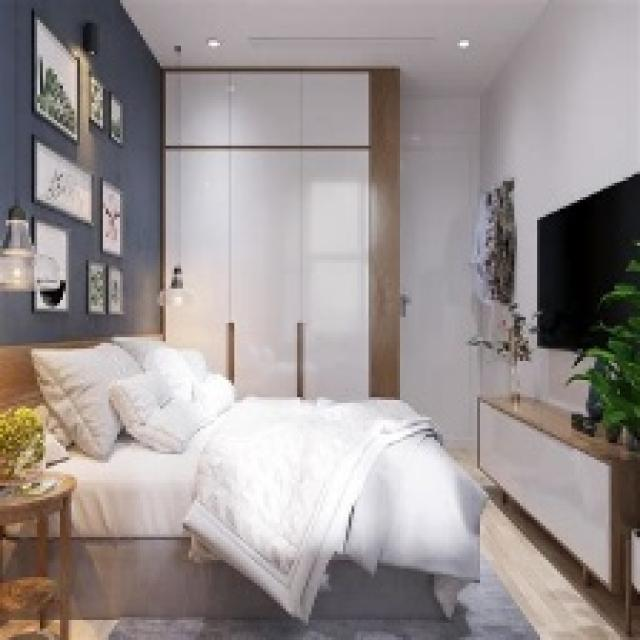Bed: (0, 331, 486, 623)
